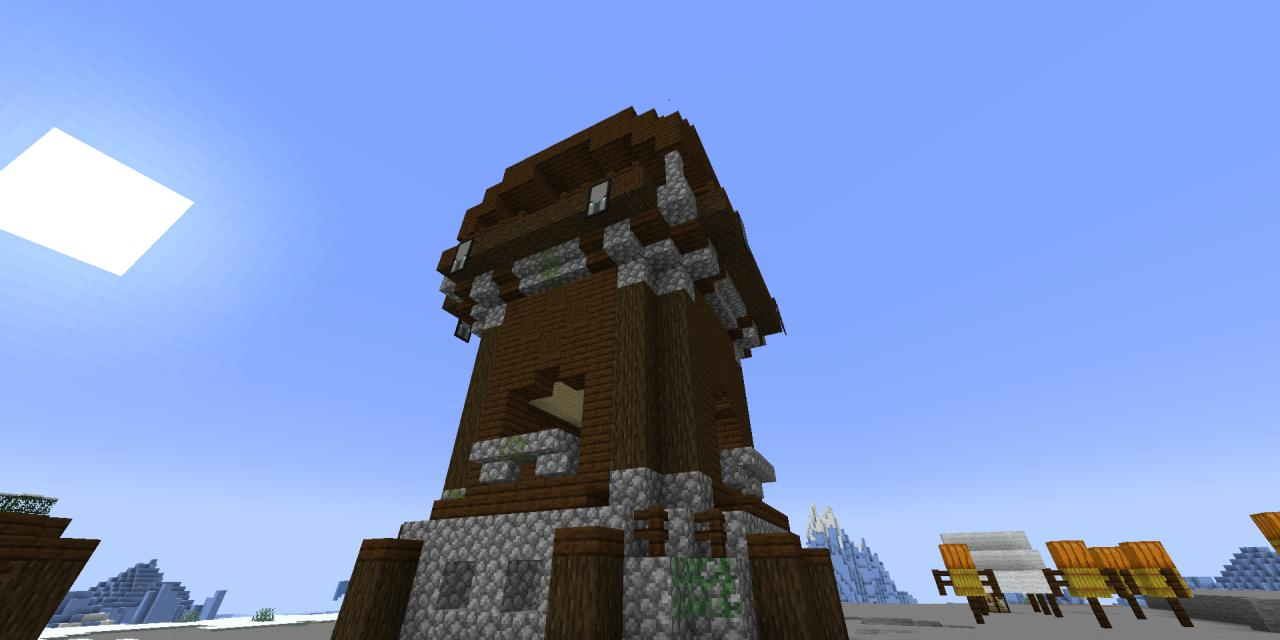pillager outpost: (340, 99, 846, 640)
